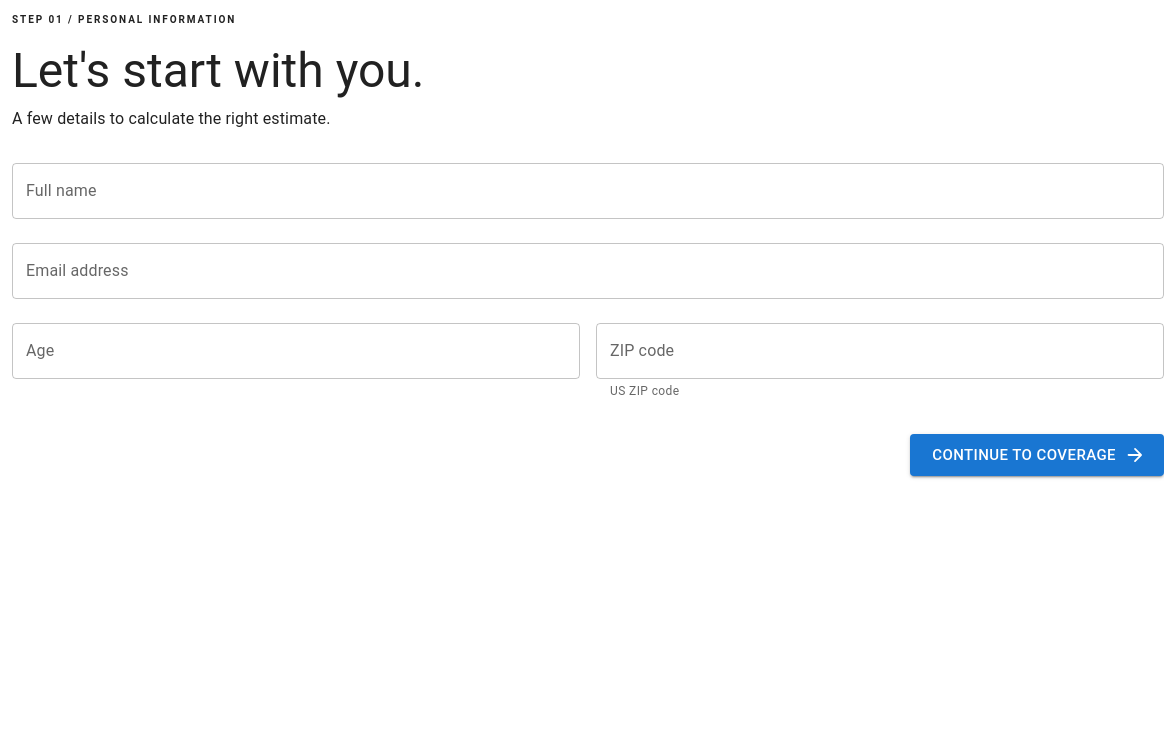
Test: blocks empty fields and sends no request
Step 1. Click the button "Continue to coverage" → [1037, 455], box [910, 434, 1164, 476]
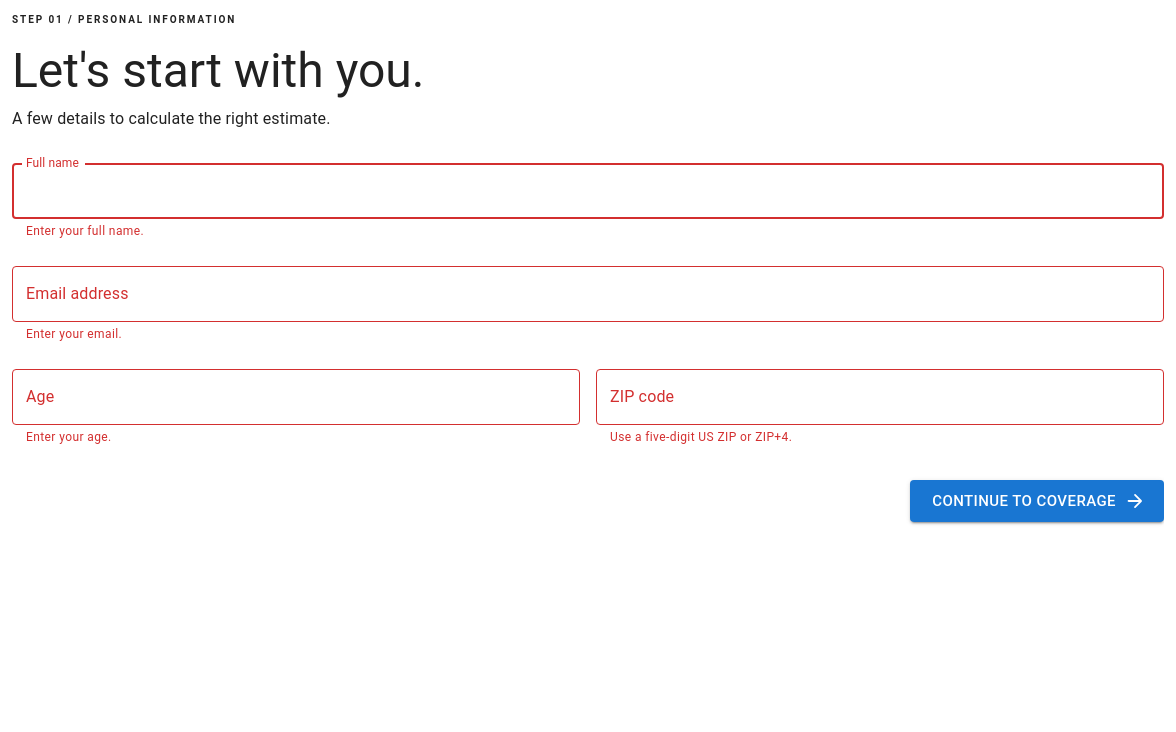
Expected: the text "Enter your full name." is shown, [26, 224, 144, 238]
